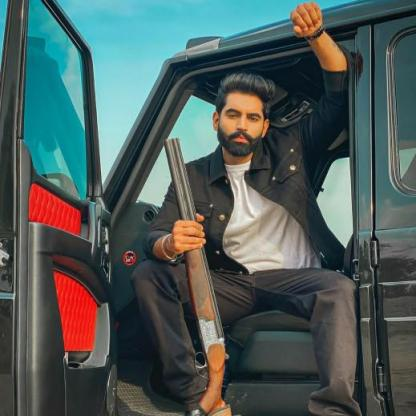rifle: (161, 136, 233, 415)
